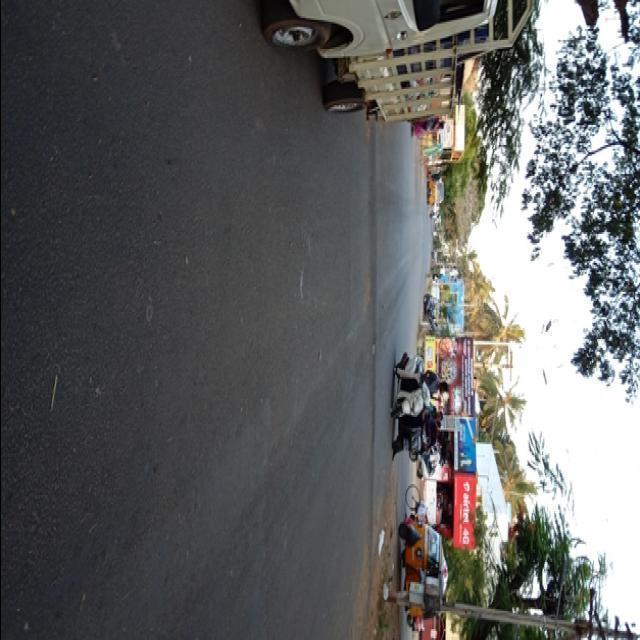speedbreaker: (363, 124, 381, 556)
